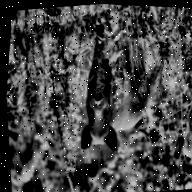boar: (62, 25, 172, 169)
